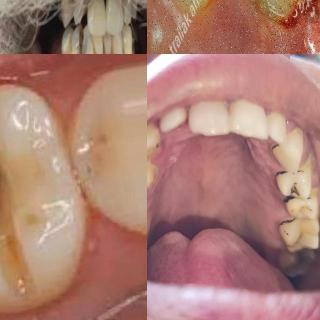calculus: (147, 128, 165, 168), (147, 153, 160, 193), (65, 38, 75, 54), (108, 40, 118, 54), (101, 40, 109, 54), (91, 45, 99, 54), (120, 48, 128, 54)
cavities: (213, 0, 320, 28), (77, 30, 89, 54)
stains: (279, 185, 320, 221), (278, 208, 308, 252), (273, 167, 313, 199), (266, 130, 290, 170)
